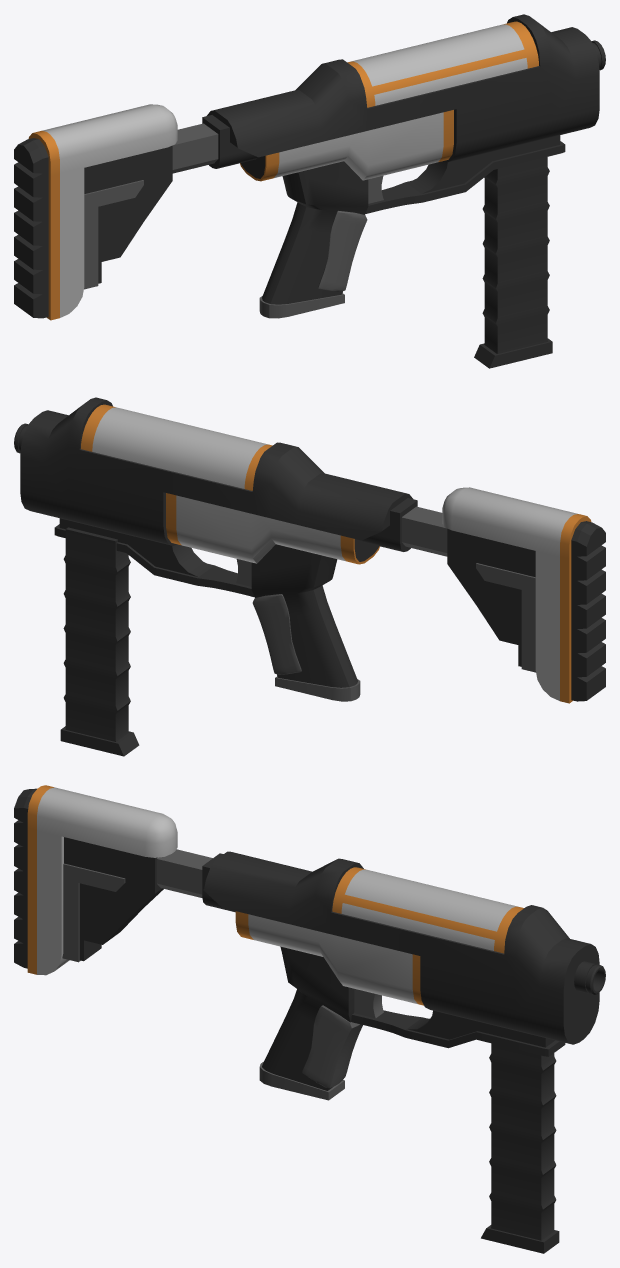
The model's file is SMG_1.gltf.
3 views of the same model, one above another, from view 1: azimuth 30°, elevation 25°; view 2: azimuth 150°, elevation 25°; view 3: azimuth 330°, elevation 25° (orthographic).
Parts seen in each view (by area): view 1: SMG_1, Magazine_SMG; view 2: SMG_1, Magazine_SMG; view 3: SMG_1, Magazine_SMG.
Boxes of the visible parts, bbox=[...] form: SMG_1: bbox=[14, 14, 605, 320]; Magazine_SMG: bbox=[474, 157, 552, 368]; SMG_1: bbox=[14, 397, 605, 703]; Magazine_SMG: bbox=[60, 527, 139, 756]; SMG_1: bbox=[14, 785, 605, 1100]; Magazine_SMG: bbox=[481, 1043, 559, 1253].
Bounding box in the file's own units: 1.41 × 0.792 × 0.1529.
